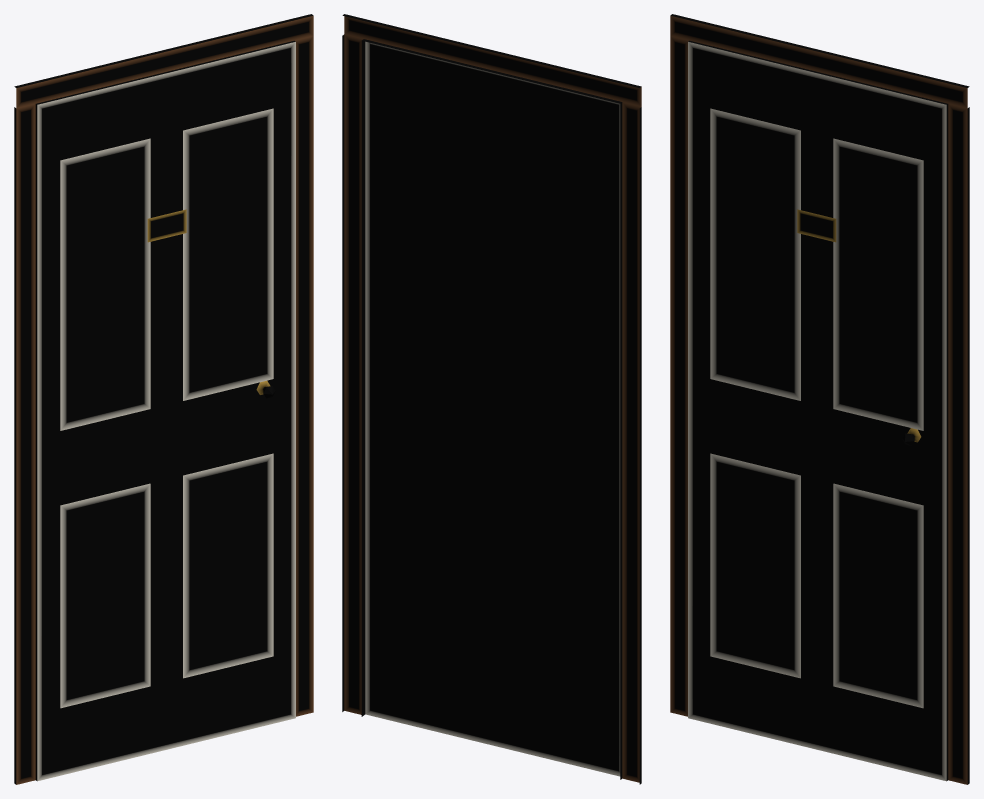
File: stateroom_door.glb
The picture shows the model from 3 angles, left to right: view 1: azimuth 30°, elevation 25°; view 2: azimuth 150°, elevation 25°; view 3: azimuth 330°, elevation 25°; orthographic projection.
Visible parts, largest first — view 1: white, frame, brass; view 2: white, frame; view 3: white, frame, brass.
Part boxes in pixels (box(x1,y1,x2,y2)): white: box(35, 40, 295, 781); frame: box(14, 14, 313, 784); brass: box(147, 209, 275, 398); white: box(361, 39, 622, 779); frame: box(342, 14, 641, 784); white: box(688, 40, 948, 781); frame: box(670, 14, 969, 784); brass: box(797, 209, 921, 445).
Bounding box in the file's own units: 0.92 × 2.06 × 0.07.
